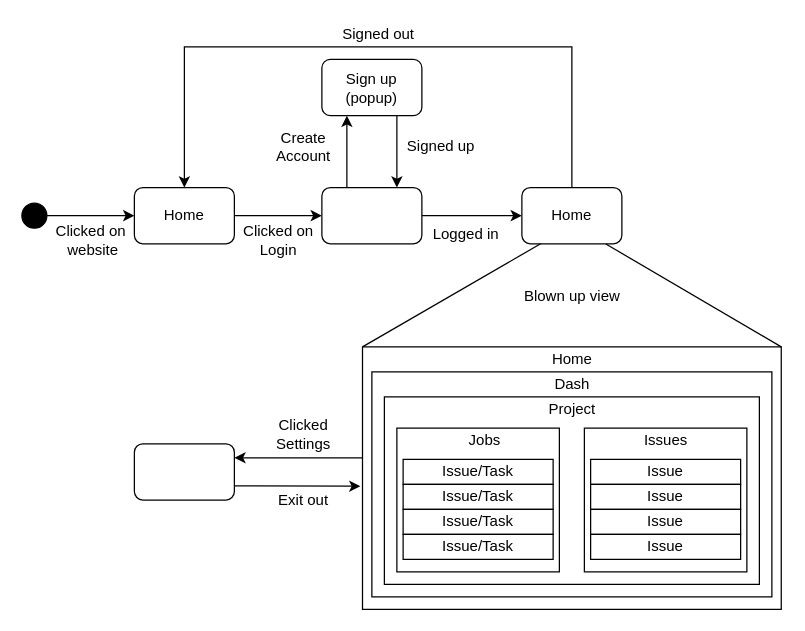
This 805x631 diagram has some shape labels left out. The shapes that lost their labels are listed below. From the top down, each one's box as (x1, y1, x2, y2) in pixels, then its label:
(321, 186, 422, 244): Login (popup)
(133, 442, 234, 500): Settings
